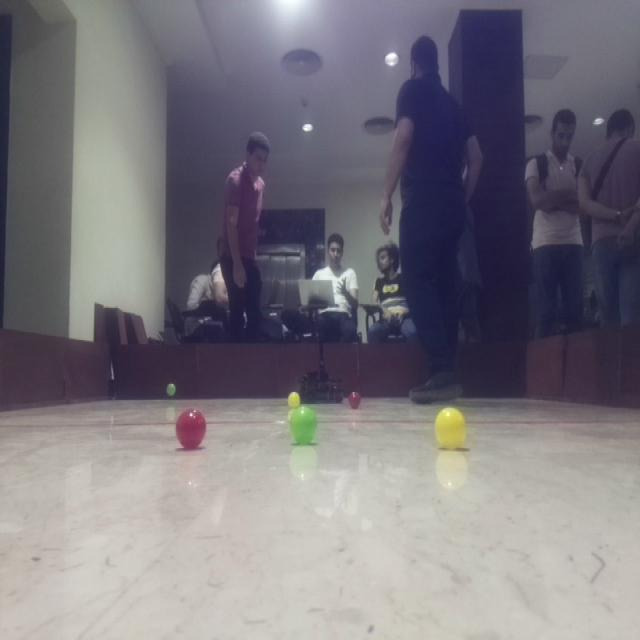ball: (164, 378, 182, 400)
